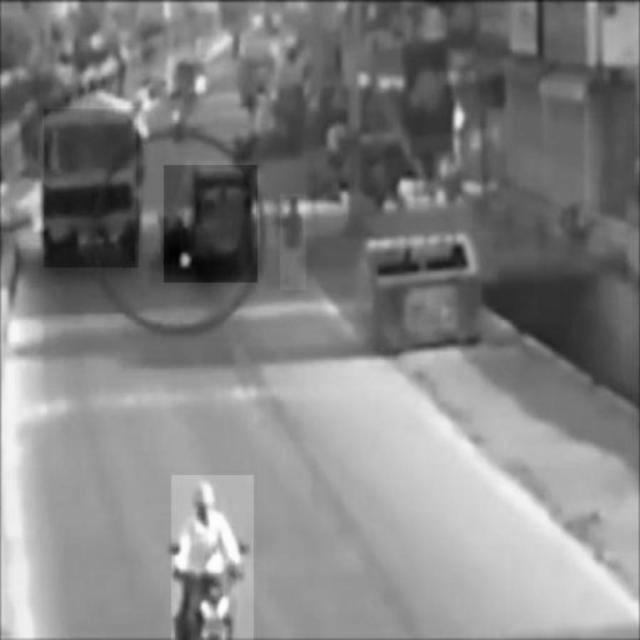accident: (164, 165, 257, 283)
person: (280, 194, 306, 290)
vehicle: (44, 109, 138, 267), (172, 475, 254, 640)
